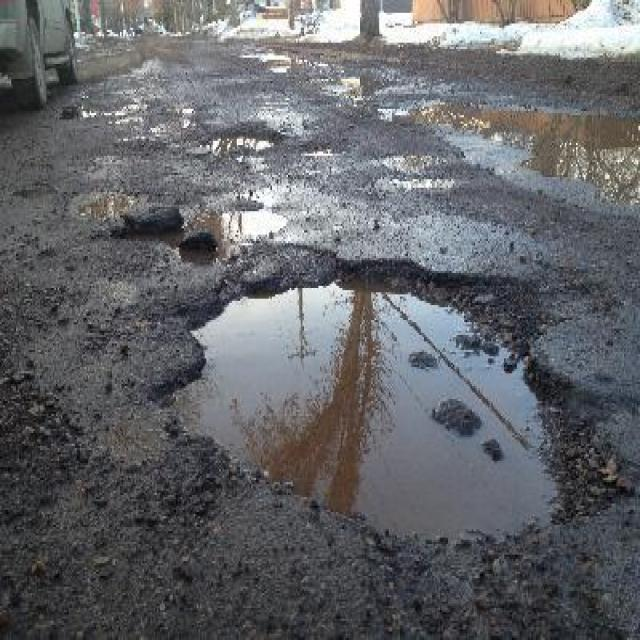buraco: (141, 238, 637, 554), (154, 247, 612, 540), (375, 100, 637, 207), (415, 93, 640, 196), (179, 204, 293, 261), (193, 124, 275, 161), (207, 124, 280, 156), (318, 70, 380, 106), (67, 191, 139, 222), (66, 188, 140, 218), (222, 202, 288, 235), (235, 47, 294, 80), (234, 46, 294, 78), (319, 73, 367, 107)
